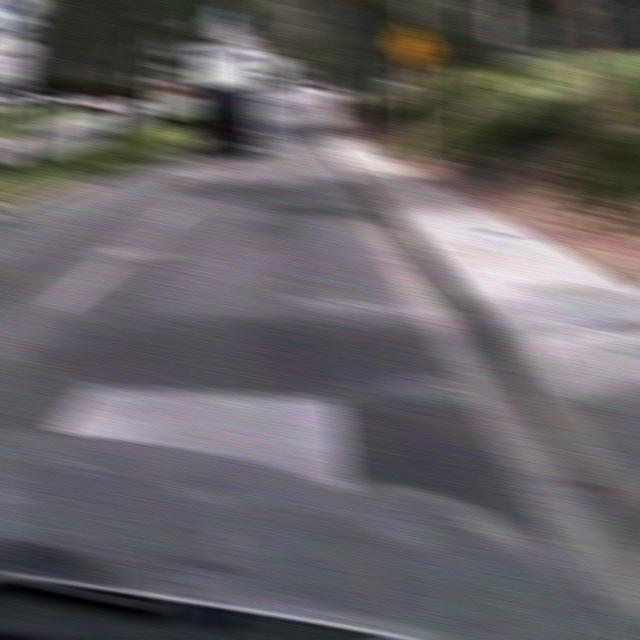pedestrianCrossing: (387, 19, 438, 69)
